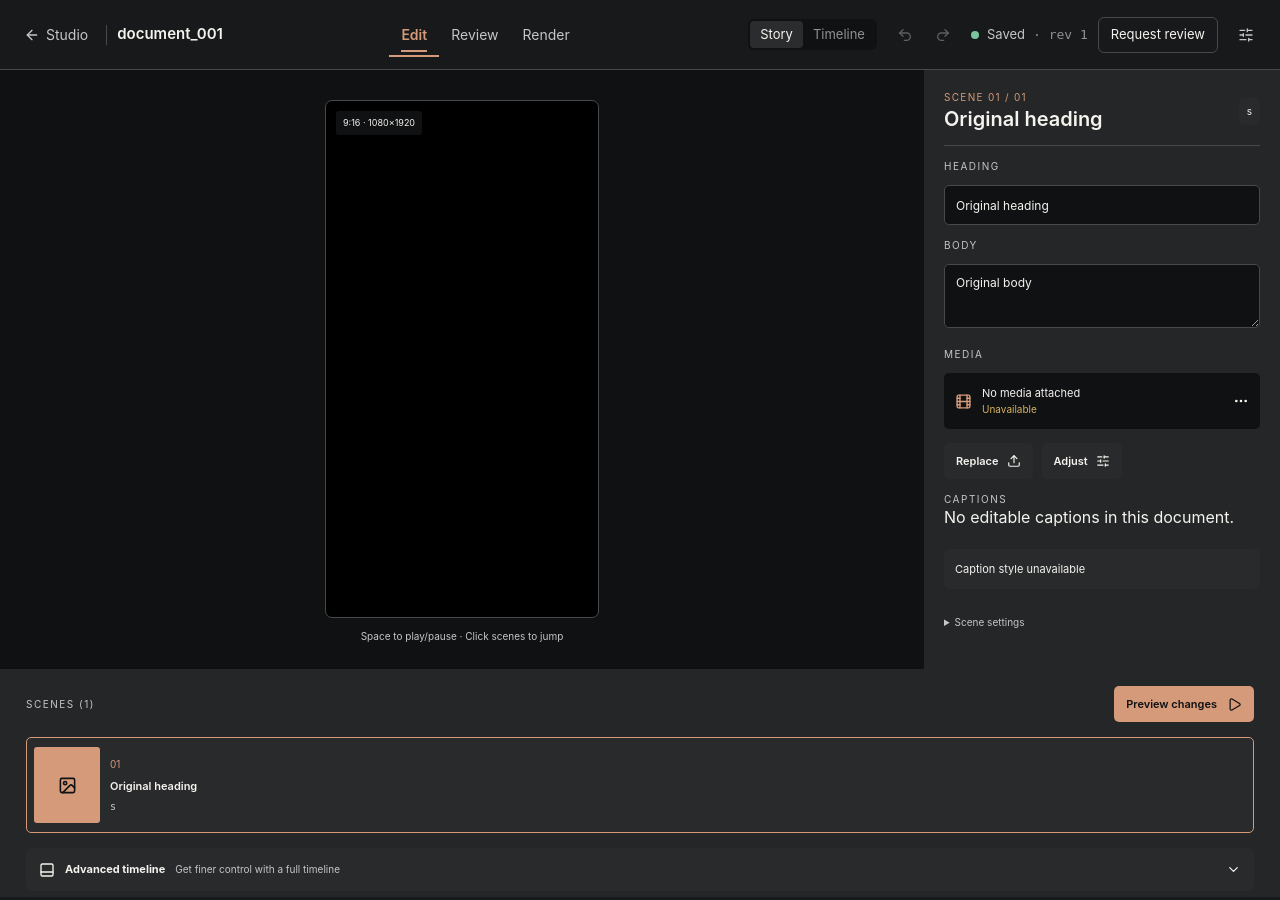
Test: keeps the local draft on conflict and offers both explicit recovery actions
Replace the text in the field labelled "Heading" with "Local heading" at (1102, 205), box [944, 185, 1260, 225]
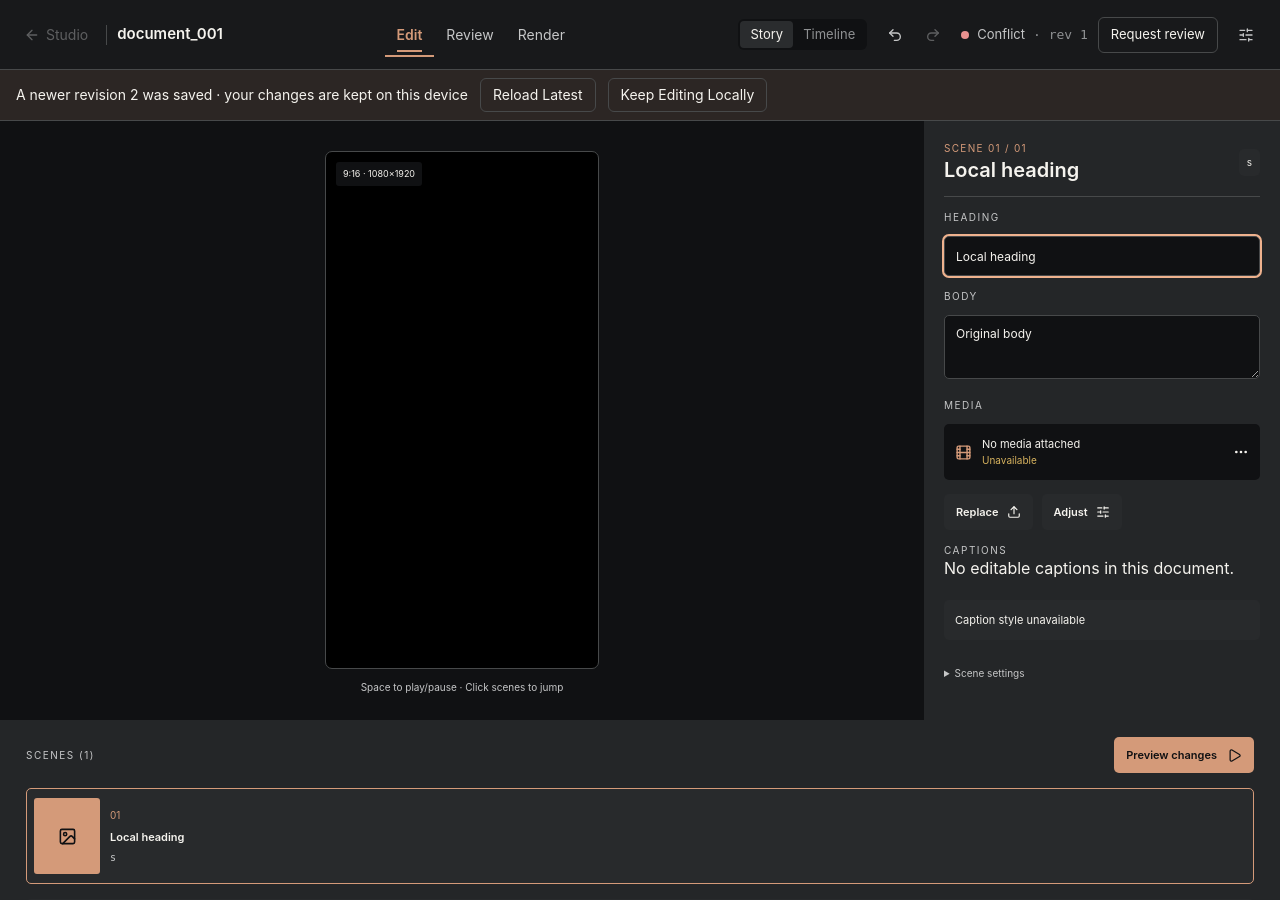
Check: the text "Conflict" is shown, box [977, 25, 1025, 44]
Check: the button "Reload Latest" is shown
Check: the button "Keep Editing Locally" is shown, box [608, 78, 768, 112]
Click the button "Reload Latest" at (538, 95), box [480, 78, 596, 112]
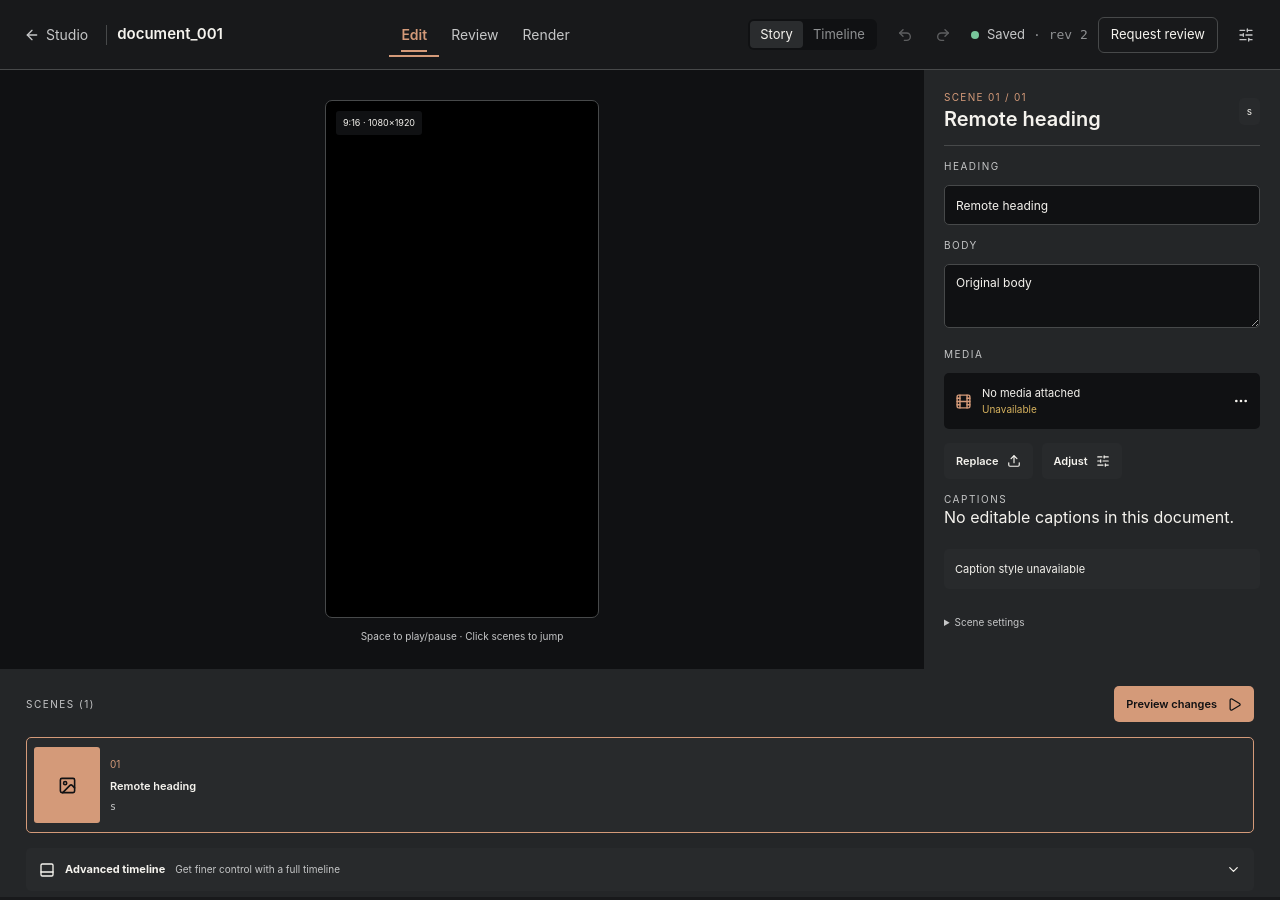
Check: the field labelled "Heading" holds "Remote heading", box [944, 185, 1260, 225]
